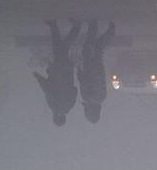person: (32, 17, 78, 128), (78, 20, 117, 124)
